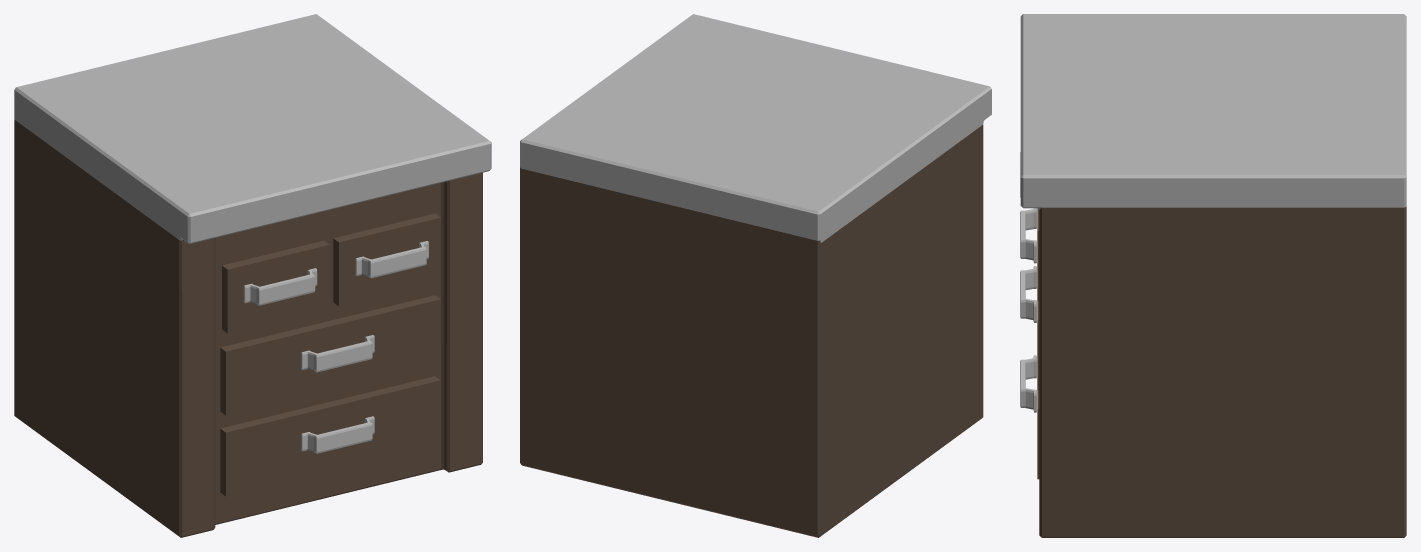
File: counter.fbx
3 renders of one model, left to right at view 1: azimuth 30°, elevation 25°; view 2: azimuth 150°, elevation 25°; view 3: azimuth 270°, elevation 25°, orthographic. The views are drawn at different scales.
Parts seen in each view (by area): view 1: counter; view 2: counter; view 3: counter.
Boxes of the visible parts, left/top/right/bottom form: counter: left=14, top=14, right=491, bottom=537; counter: left=520, top=14, right=991, bottom=537; counter: left=1020, top=14, right=1406, bottom=537.
Bounding box in the file's own units: 1.17 × 1.21 × 1.17.
